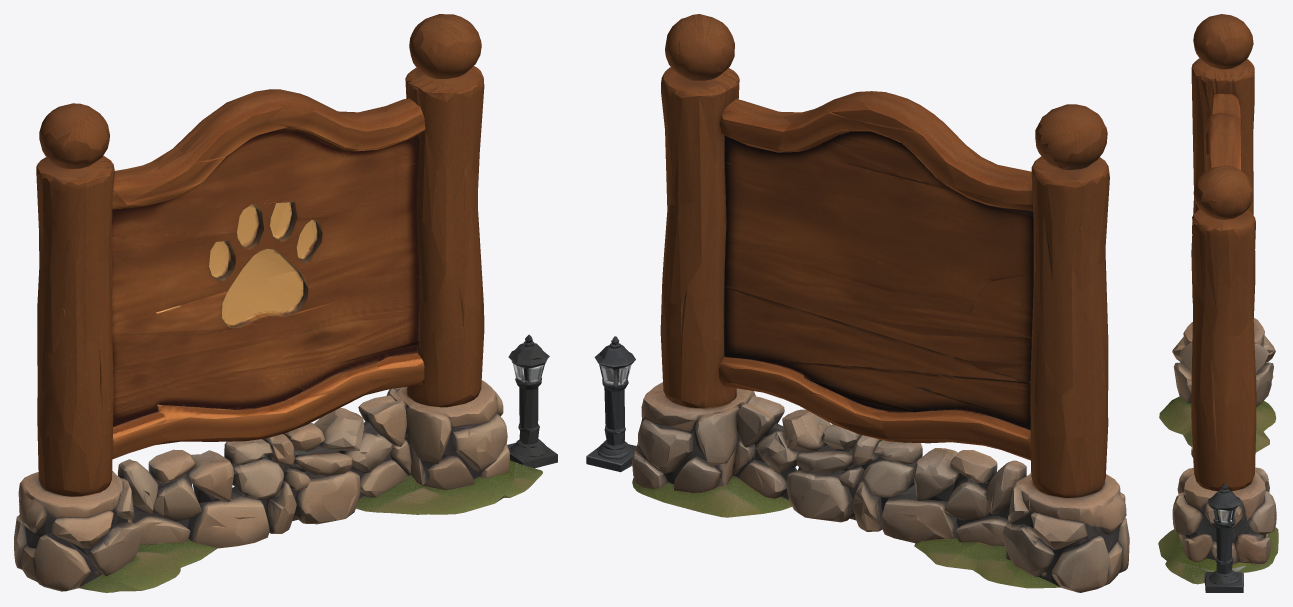
The model's file is welcome_sign.glb.
3 renders of one model, left to right at view 1: azimuth 30°, elevation 25°; view 2: azimuth 150°, elevation 25°; view 3: azimuth 270°, elevation 25°, orthographic. The views are drawn at different scales.
Size of the model in its own units: 1.9 by 1.61 by 0.457.
1 material, 1 textured.
